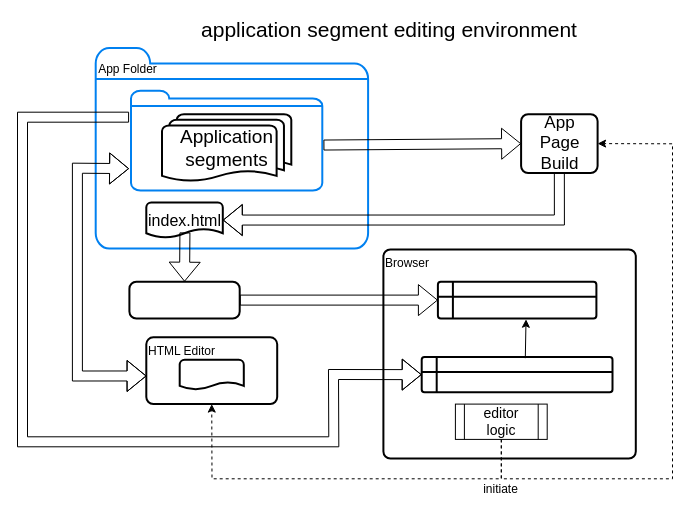
The diagram is 698 pixels wide and 518 high, and some of its shapes have lost their labels. Each missing label, with the centre of its shape:
"Dev Server" goes at point (184, 299).
"DOM App segments" goes at point (516, 299).
"replacement segment" goes at point (516, 374).
